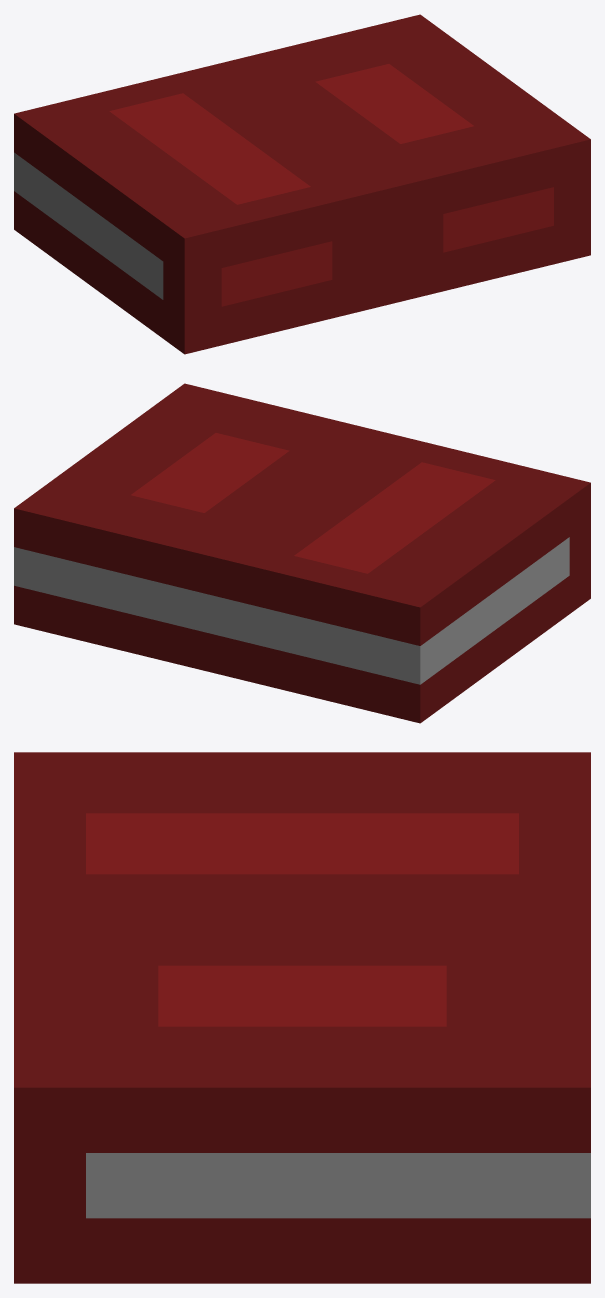
Rendered from Decor-1.obj.
3 views of the same model, one above another, from view 1: azimuth 30°, elevation 25°; view 2: azimuth 150°, elevation 25°; view 3: azimuth 270°, elevation 25° (orthographic). The views are drawn at different scales.
Size of the model in its own units: 1.1 by 0.3 by 0.8.
1 material, 1 textured.
